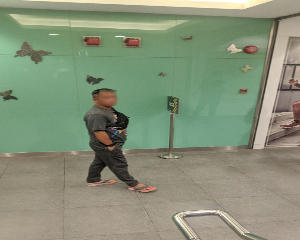stand: (77, 85, 160, 196)
